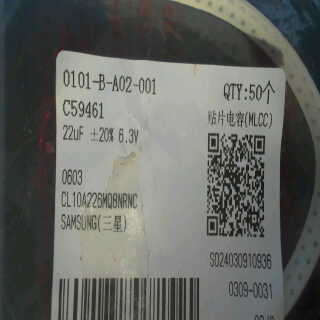22uF: (58, 123, 85, 141)
